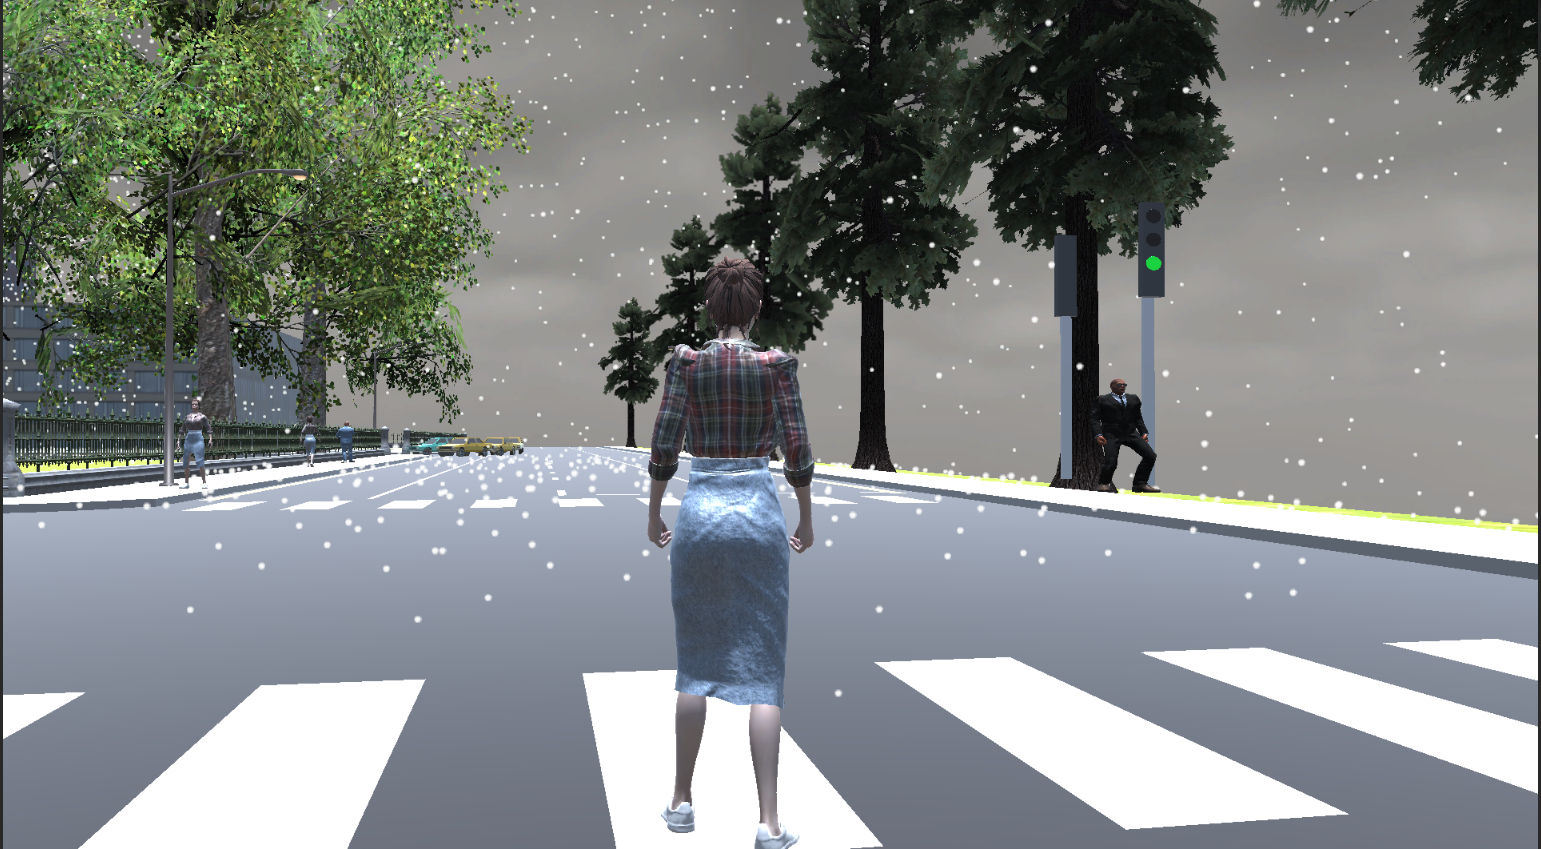pedestrian: (634, 252, 828, 846), (1087, 367, 1170, 493), (179, 387, 222, 491), (295, 405, 321, 467), (333, 419, 354, 467)
